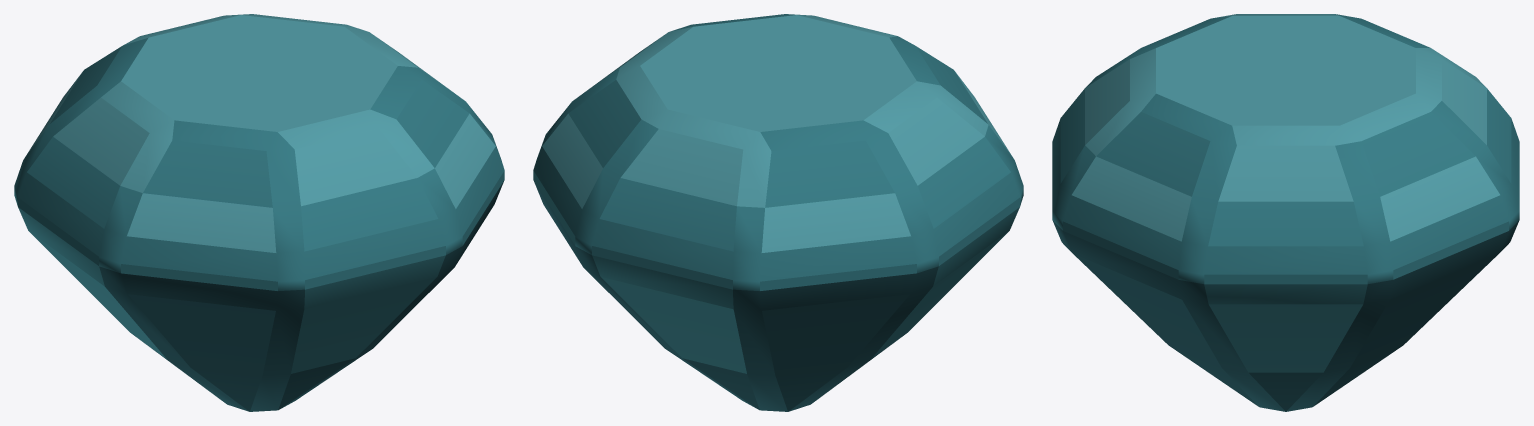
File: Gem_03.glb
3 renders of one model, left to right at view 1: azimuth 30°, elevation 25°; view 2: azimuth 150°, elevation 25°; view 3: azimuth 270°, elevation 25°, orthographic.
Parts seen in each view (by area): view 1: Gem_03; view 2: Gem_03; view 3: Gem_03.
Boxes of the visible parts, x1,y1,x2,y2 form: Gem_03: (14, 14, 504, 411); Gem_03: (533, 14, 1023, 411); Gem_03: (1052, 14, 1519, 411).
Bounding box in the file's own units: 0.9368 × 0.7198 × 0.9368.
